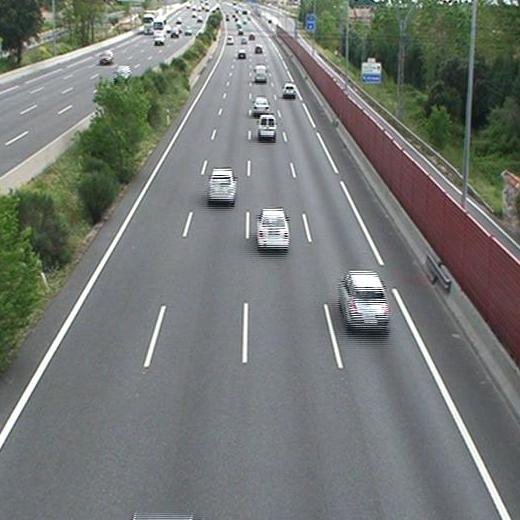car: (339, 272, 388, 328), (258, 209, 288, 248), (208, 169, 236, 201), (253, 98, 269, 113), (282, 83, 297, 95), (237, 49, 247, 58), (226, 35, 233, 45), (255, 45, 263, 53)
van: (258, 116, 276, 139), (255, 65, 266, 81)
